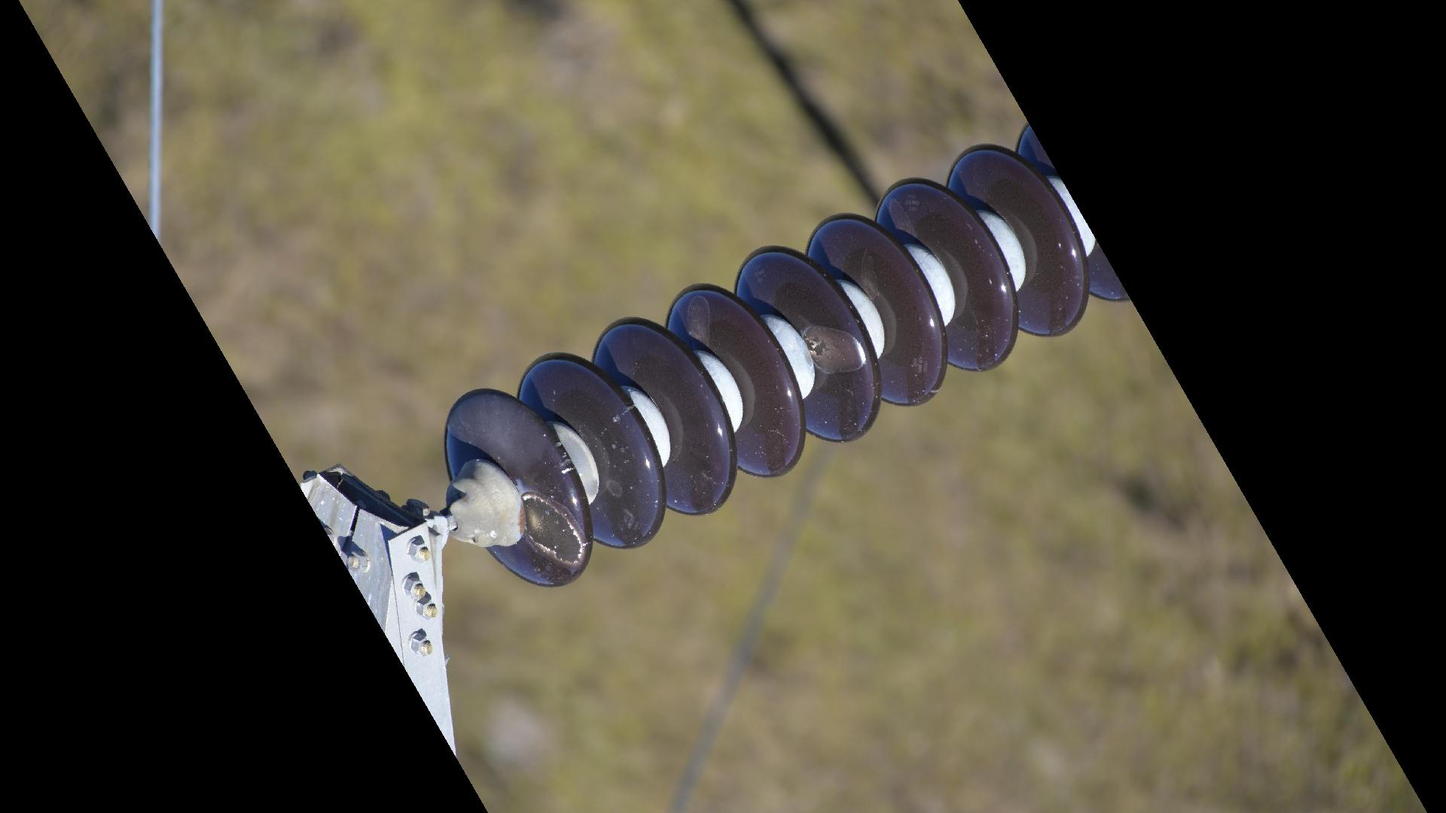insulator: (438, 120, 1132, 596)
insulator_flashover: (518, 489, 588, 566), (798, 321, 868, 376)
